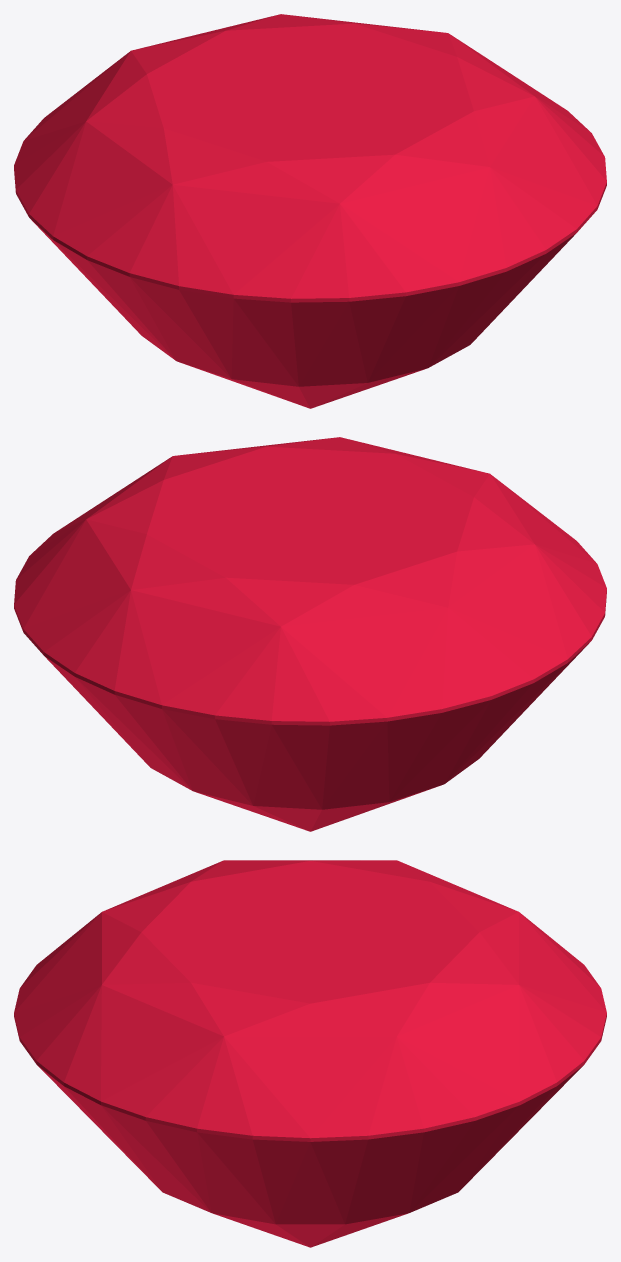
The model's file is jewelry.glb.
The picture shows the model from 3 angles, top to bottom: view 1: azimuth 30°, elevation 25°; view 2: azimuth 150°, elevation 25°; view 3: azimuth 270°, elevation 25°; orthographic projection.
Visible parts, largest first — view 1: Gemstone Ruby; view 2: Gemstone Ruby; view 3: Gemstone Ruby.
Part boxes in pixels (x1,y1,x2,y2): Gemstone Ruby: (14,14,606,408); Gemstone Ruby: (14,437,606,831); Gemstone Ruby: (14,860,606,1247).
Bounding box in the file's own units: 2.2 × 1.29 × 2.2.
